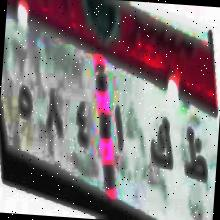4: (69, 96, 94, 164)
5: (15, 76, 36, 130)
8: (42, 88, 67, 152)
Thaa: (180, 122, 213, 198)
alif: (112, 101, 126, 159)
kaaf: (146, 109, 178, 186)
